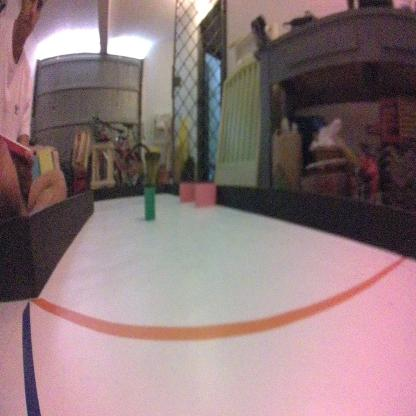magenta: (192, 180, 217, 212), (178, 178, 198, 204)
